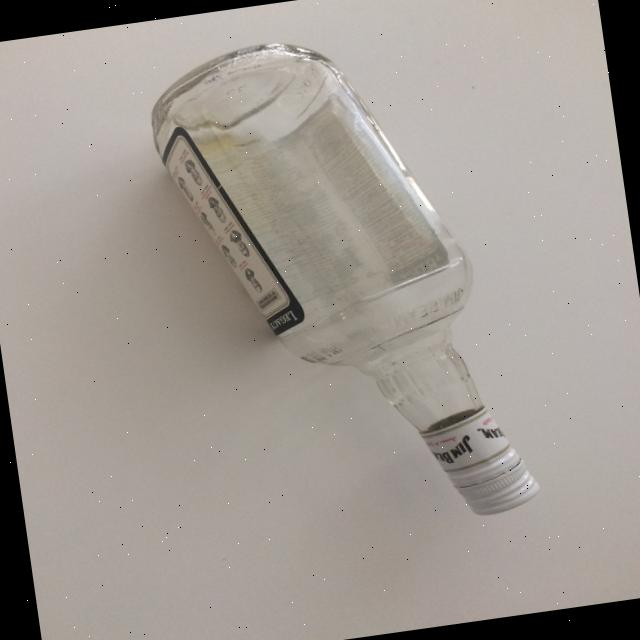glass: (143, 22, 526, 544)
